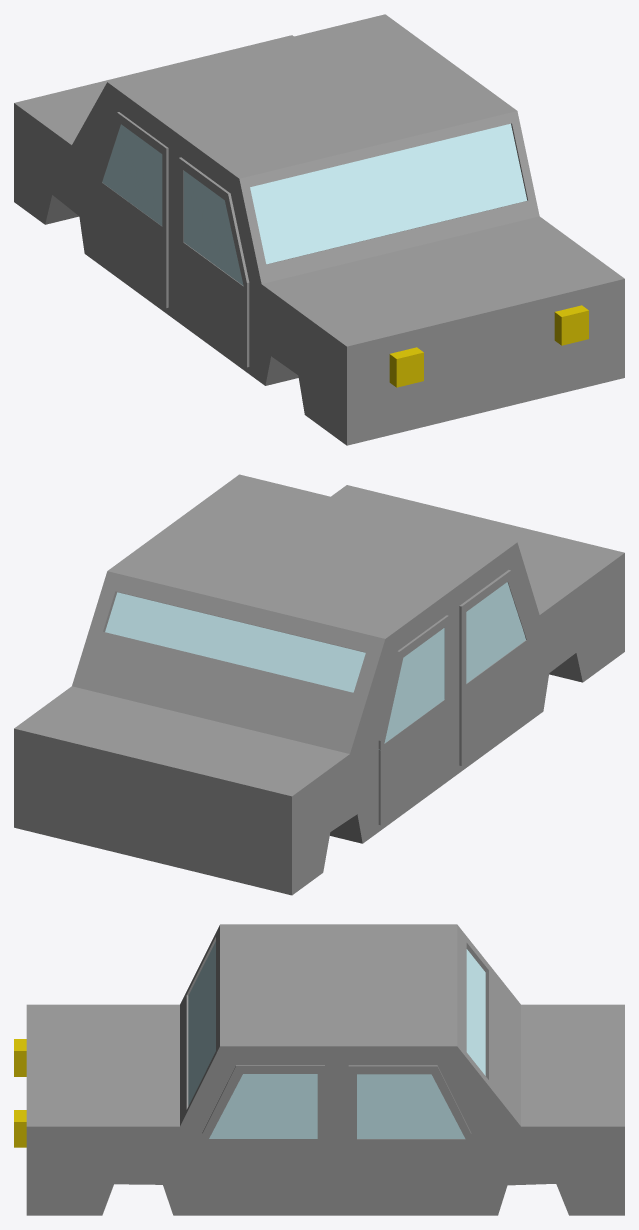
The model's file is Coche  Gris.fbx.
3 views of the same model, one above another, from view 1: azimuth 30°, elevation 25°; view 2: azimuth 150°, elevation 25°; view 3: azimuth 270°, elevation 25° (orthographic). The views are drawn at different scales.
Visible parts, largest first — view 1: Cube, Cube.010, Cube.004, Cube.005, Cube.009, Cube.008, Cube.002; view 2: Cube, Cube.011, Cube.004, Cube.005, Cube.009, Cube.008; view 3: Cube, Cube.001, Cube.003, Cube.006, Cube.007, Cube.010, Cube.011, Cube.002.
Part boxes in pixels (box(x1,y1,x2,y2)): Cube: box(14, 14, 624, 445); Cube.010: box(250, 123, 527, 264); Cube.004: box(178, 157, 249, 367); Cube.005: box(98, 112, 168, 307); Cube.009: box(102, 124, 162, 225); Cube.008: box(183, 170, 243, 285); Cube.002: box(389, 305, 588, 387); Cube: box(14, 474, 624, 895); Cube.011: box(105, 592, 365, 692); Cube.004: box(459, 570, 529, 765); Cube.005: box(378, 615, 448, 825); Cube.009: box(379, 628, 444, 749); Cube.008: box(466, 582, 525, 683); Cube: box(26, 924, 624, 1215); Cube.001: box(348, 1065, 471, 1209); Cube.003: box(202, 1065, 324, 1209); Cube.006: box(209, 1074, 317, 1138); Cube.007: box(357, 1074, 465, 1138); Cube.010: box(188, 941, 215, 1105); Cube.011: box(466, 949, 485, 1075); Cube.002: box(14, 1039, 26, 1147).
Bounding box in the file's own units: 172 × 109 × 358.
